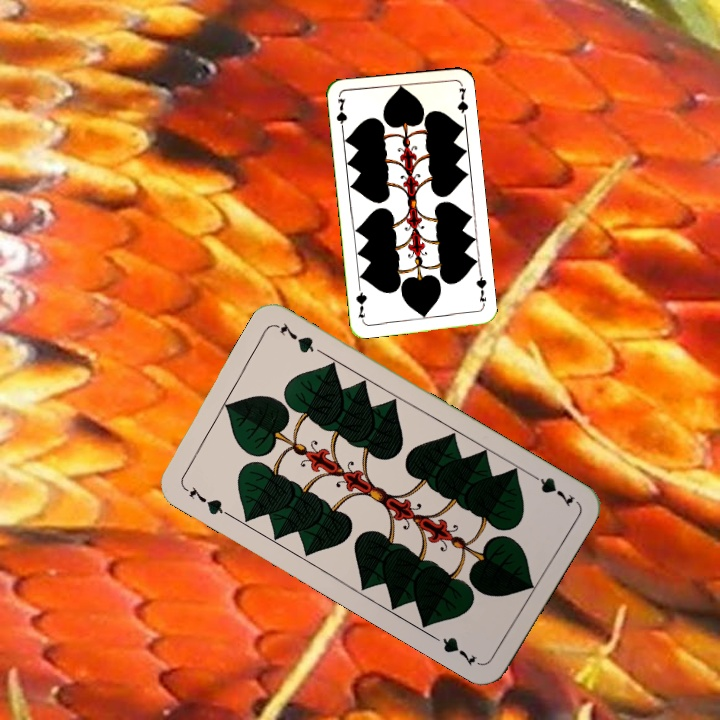G7: (524, 468, 577, 509), (179, 482, 232, 519), (332, 94, 350, 135), (472, 269, 489, 310)
